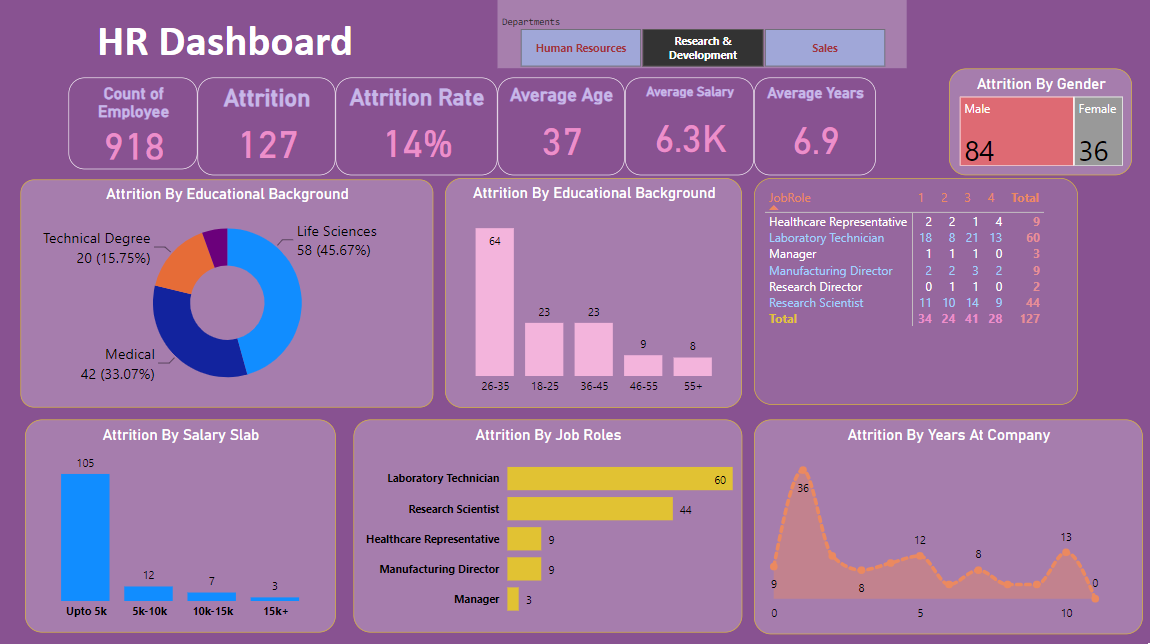

What the dashboard file says about the page in this screenshot:
{"tool":"powerbi","page":{"name":"Page 1","canvas":[1280,720],"ordinal":0},"visuals":[{"type":"card","title":"Count of Employee","fields":{"Values":["CountNonNull(HR_Analytics.EmpID)"]},"box":[78.3,88.3,143.3,101.7],"z":0},{"type":"card","title":"Attrition","fields":{"Values":["Sum(HR_Analytics.Attrition_Count)"]},"box":[221.7,88.3,153.3,108.3],"z":1000},{"type":"card","title":"Attrition Rate","fields":{"Values":["HR_Analytics.Attrition_Rate"]},"box":[375,88.3,180,108.3],"z":2000},{"type":"card","title":"Average Age","fields":{"Values":["Avg(HR_Analytics.Age)"]},"box":[555,88.3,141.7,101.7],"z":3000},{"type":"card","title":"Average Salary","fields":{"Values":["Avg(HR_Analytics.MonthlyIncome)"]},"box":[696.7,88.3,143.3,98.3],"z":4000},{"type":"card","title":"Average Years","fields":{"Values":["Avg(HR_Analytics.YearsAtCompany)"]},"box":[840,88.3,135,101.7],"z":5000},{"type":"donutChart","title":"Attrition By Educational Background","fields":{"Y":["Sum(HR_Analytics.Attrition_Count)"],"Category":["HR_Analytics.EducationField"]},"box":[25,201.7,458.3,253.3],"z":6000},{"type":"columnChart","title":"Attrition By Educational Background","fields":{"Category":["HR_Analytics.AgeGroup"],"Y":["Sum(HR_Analytics.Attrition_Count)"]},"box":[496.7,200,330,255],"z":7000},{"type":"pivotTable","fields":{"Rows":["HR_Analytics.JobRole"],"Columns":["HR_Analytics.JobSatisfaction"],"Values":["Sum(HR_Analytics.Attrition_Count)"]},"box":[840,200,360,251.7],"z":8000},{"type":"columnChart","title":"Attrition By Salary Slab","fields":{"Category":["HR_Analytics.SalarySlab"],"Y":["Sum(HR_Analytics.Attrition_Count)"]},"box":[30,468.3,345,236.7],"z":9000},{"type":"barChart","title":"Attrition By Job Roles","fields":{"Category":["HR_Analytics.JobRole"],"Y":["Sum(HR_Analytics.Attrition_Count)"]},"box":[395,468.3,431.7,236.7],"z":10000},{"type":"areaChart","title":"Attrition By Years At Company","fields":{"Category":["HR_Analytics.YearsAtCompany"],"Y":["Sum(HR_Analytics.Attrition_Count)"]},"box":[840,468.3,431.7,238.3],"z":11000},{"type":"treemap","title":"Attrition By Gender","fields":{"Values":["Sum(HR_Analytics.Attrition_Count)"],"Group":["HR_Analytics.Gender"]},"box":[1056.7,78.3,203.3,118.3],"z":12000},{"type":"slicer","title":"Departments","fields":{"Values":["HR_Analytics.Department"]},"box":[554.7,0,454.6,77.9],"z":13000},{"type":"textbox","box":[15.5,11.8,474.5,76.4],"z":14000}]}

Visuals, with their boxes in screenshot pixels (x1, y1, x2, y2), scaled from the page's 1280x720 canvas onto the 1150x644 screenshot:
"Count of Employee" card: detection(70, 79, 199, 170)
"Attrition" card: detection(199, 79, 337, 176)
"Attrition Rate" card: detection(337, 79, 499, 176)
"Average Age" card: detection(499, 79, 626, 170)
"Average Salary" card: detection(626, 79, 755, 167)
"Average Years" card: detection(755, 79, 876, 170)
"Attrition By Educational Background" donutChart: detection(22, 180, 434, 407)
"Attrition By Educational Background" columnChart: detection(446, 179, 743, 407)
pivotTable - HR_Analytics.JobRole x HR_Analytics.JobSatisfaction: detection(755, 179, 1078, 404)
"Attrition By Salary Slab" columnChart: detection(27, 419, 337, 631)
"Attrition By Job Roles" barChart: detection(355, 419, 743, 631)
"Attrition By Years At Company" areaChart: detection(755, 419, 1143, 632)
"Attrition By Gender" treemap: detection(949, 70, 1132, 176)
"Departments" slicer: detection(498, 0, 907, 70)
textbox: detection(14, 11, 440, 79)
